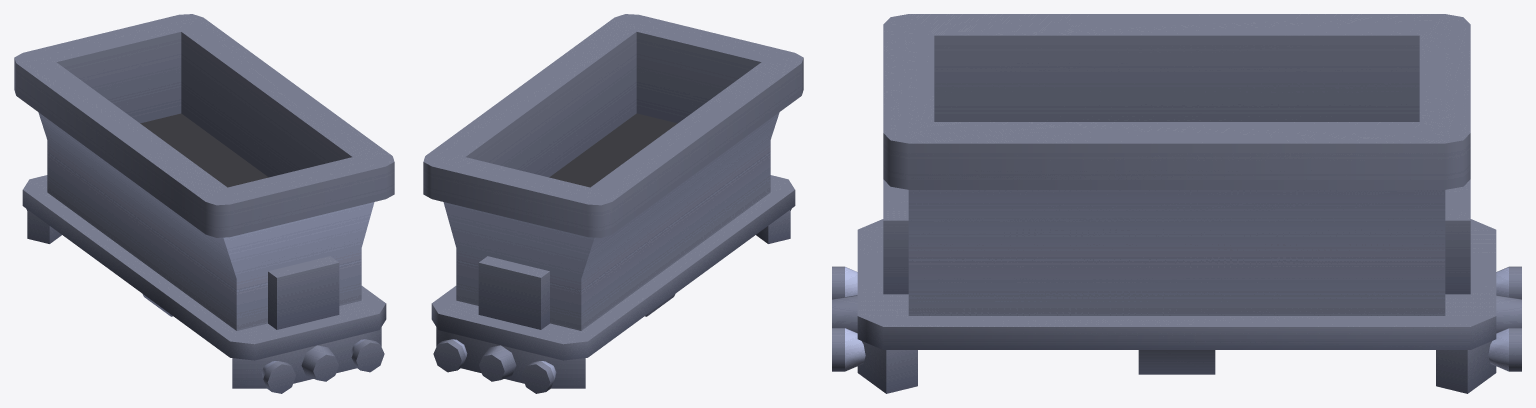
The model's file is train-carriage-coal_lev2.glb.
3 renders of one model, left to right at view 1: azimuth 30°, elevation 25°; view 2: azimuth 150°, elevation 25°; view 3: azimuth 270°, elevation 25°, orthographic. The views are drawn at different scales.
Parts seen in each view (by area): view 1: train-carriage-coal_lev2; view 2: train-carriage-coal_lev2; view 3: train-carriage-coal_lev2.
Part boxes in pixels (box(x1,y1,x2,y2)): train-carriage-coal_lev2: box(14, 14, 394, 393); train-carriage-coal_lev2: box(423, 14, 803, 393); train-carriage-coal_lev2: box(832, 14, 1521, 393).
Bounding box in the file's own units: 1.2 × 1.14 × 2.7.
1 material, 1 textured.
